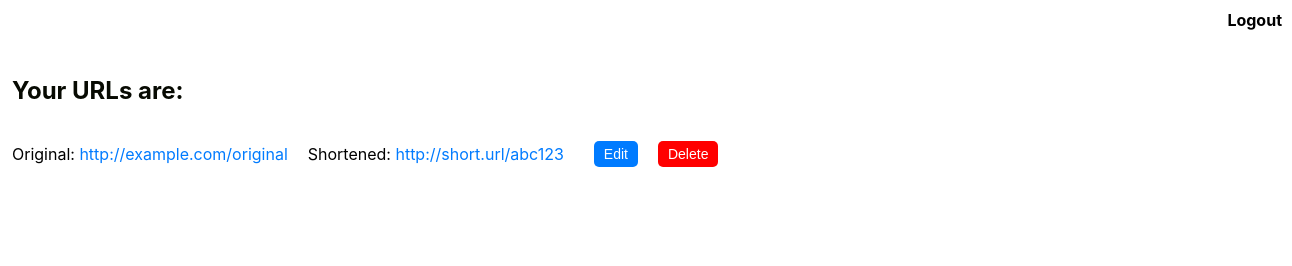
Test: test page for MyUrlsPage component › testing failure of editing and saving of url
Expected: the link "http://example.com/original" is shown, [79,144,288,164]
Click the button "Edit" at (616, 154), box [594,141,638,167]
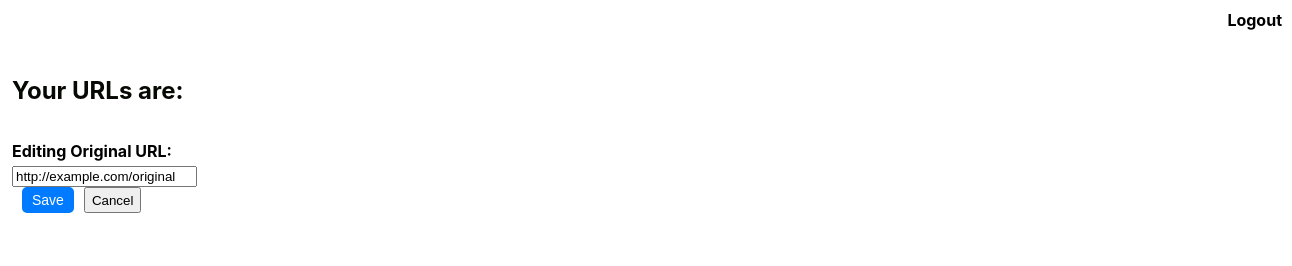
Replace the text in the field showing "http://example.com/original" with "http://example.com/updated" at (104, 177), box [12,166,197,187]
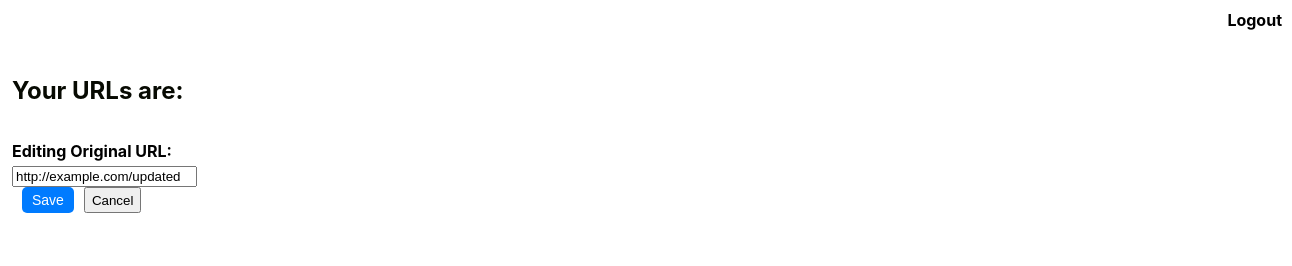
Click the button "Save" at (48, 200), box [22,187,74,213]
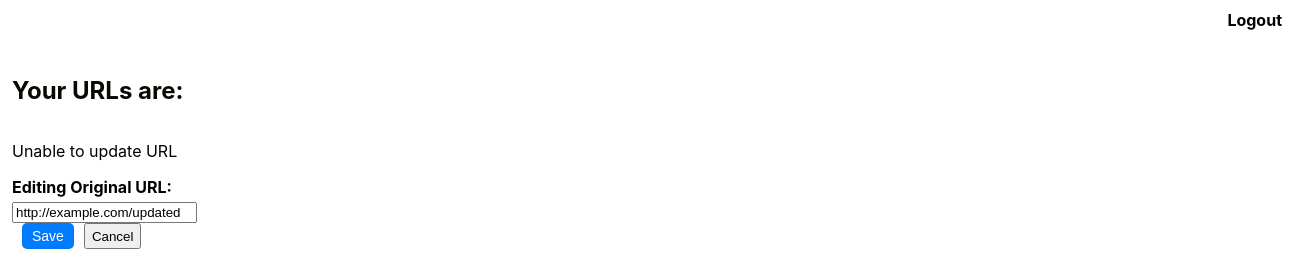
Now the text "Unable to update URL" is shown, box [12,141,177,161]
